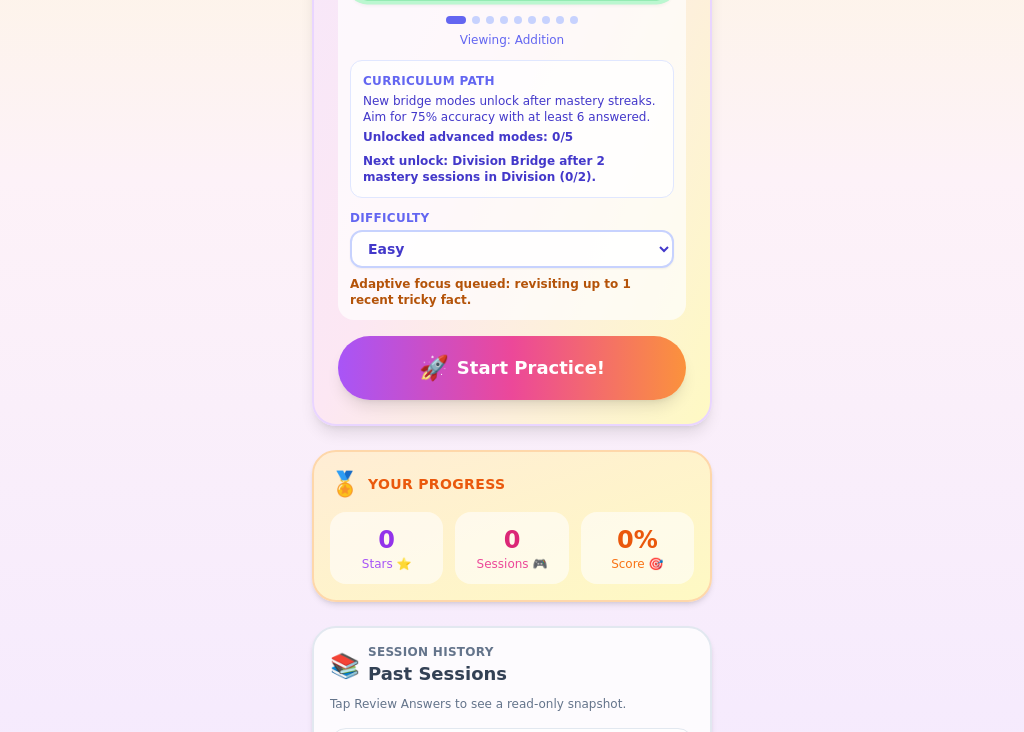
Test case: queues adaptive weak facts from session history for core modes
(page scrolled)
Expected: the text "Adaptive focus queued: revisiting up to 1 recent tricky fact" is shown, 350,276 -> 674,308
Click the button "🚀 Start Practice!" at [512, 368], box 338,336 -> 686,400
(page scrolled)
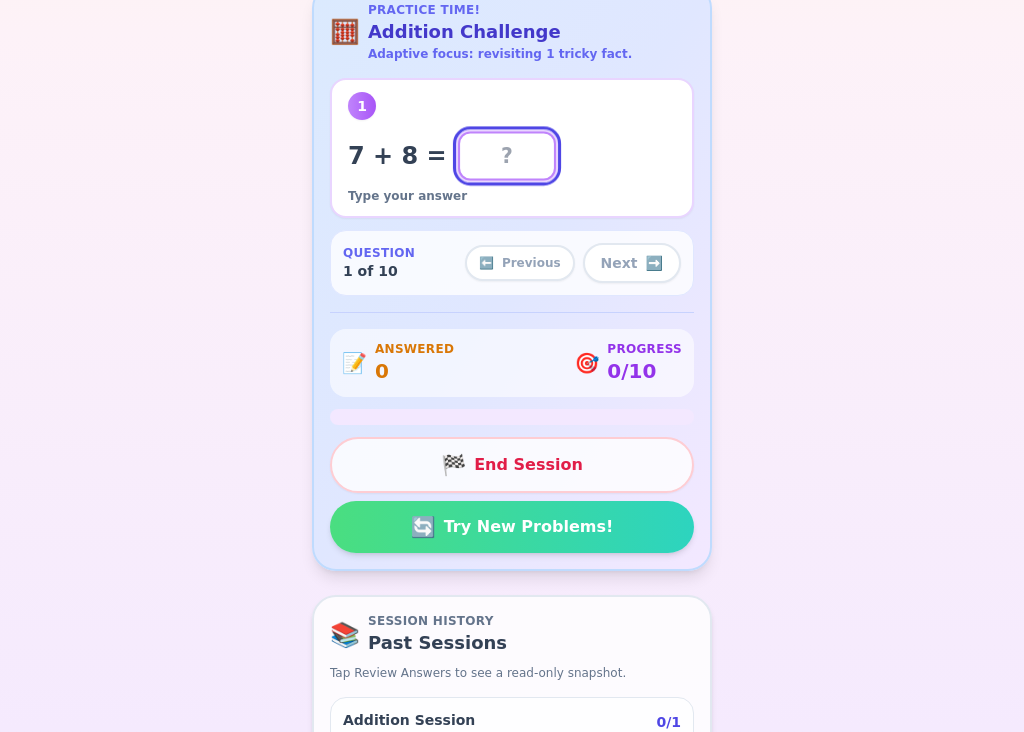
Expected: the text "7 + 8 =" is shown, 348,140 -> 447,172
Expected: the text "Adaptive focus: revisiting 1 tricky fact." is shown, 368,46 -> 632,62
